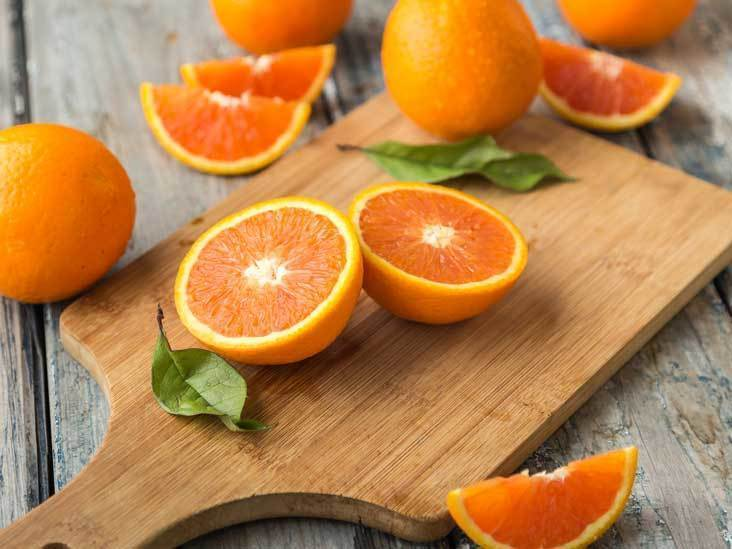orange: (1, 119, 144, 317), (378, 7, 541, 145)
